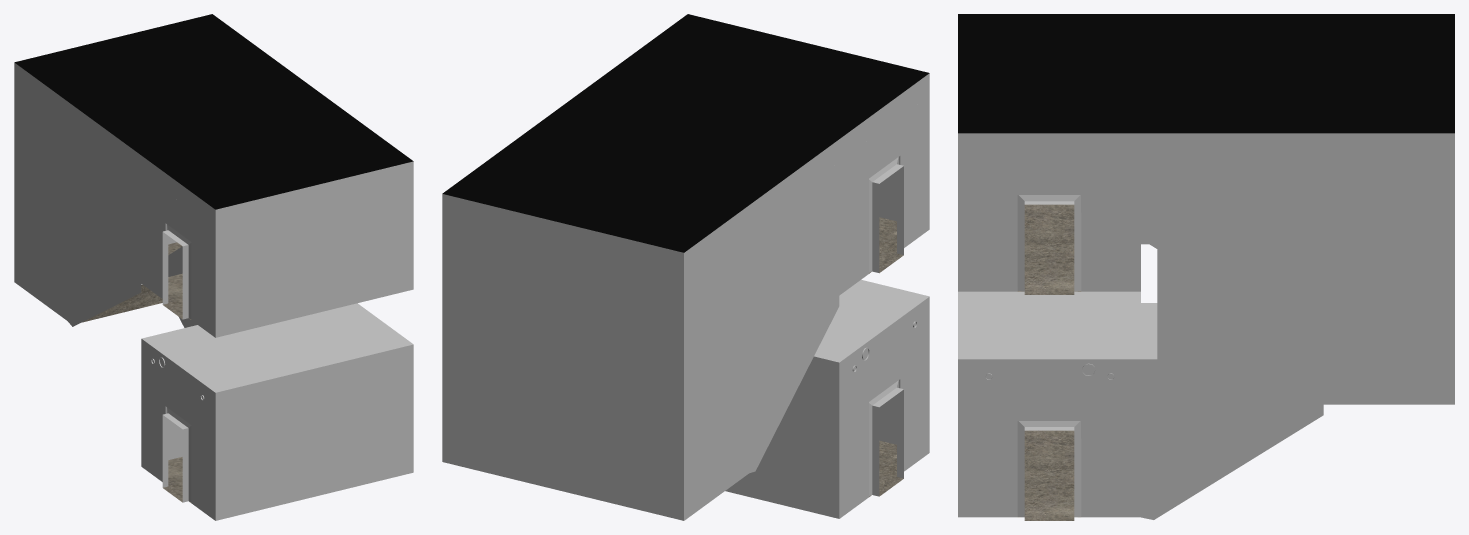
File: StairwayUp_2x3.FBX
3 renders of one model, left to right at view 1: azimuth 30°, elevation 25°; view 2: azimuth 150°, elevation 25°; view 3: azimuth 270°, elevation 25°, orthographic. The views are drawn at different scales.
Parts seen in each view (by area): view 1: StairwayUp_2x3; view 2: StairwayUp_2x3; view 3: StairwayUp_2x3.
Part boxes in pixels (x1=…): StairwayUp_2x3: x1=14, y1=14, x2=413, y2=520; StairwayUp_2x3: x1=442, y1=14, x2=929, y2=520; StairwayUp_2x3: x1=958, y1=14, x2=1454, y2=520.
Size of what is drawn, in the model's own units: 709 by 1011 by 1177.
